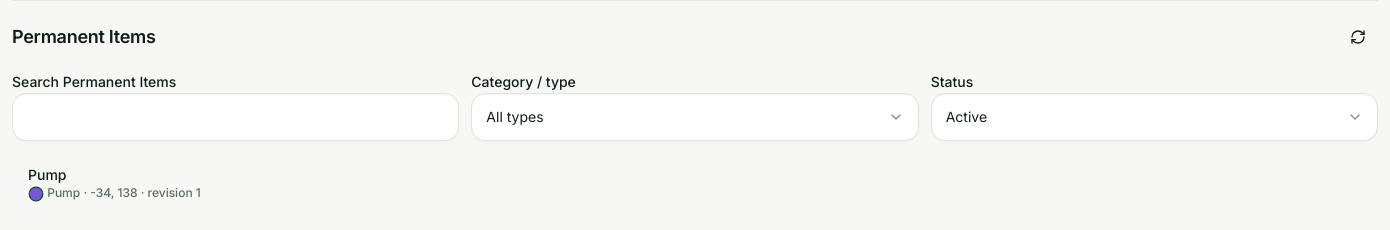
Scenario: filters separate items by search without querying pins
Check: the button "Pump Pump · -34, 138 · revision 1" is shown, box [12, 153, 1378, 214]
Type "gate" into the field labelled "Search Permanent Items" at (236, 117), box [12, 93, 459, 141]
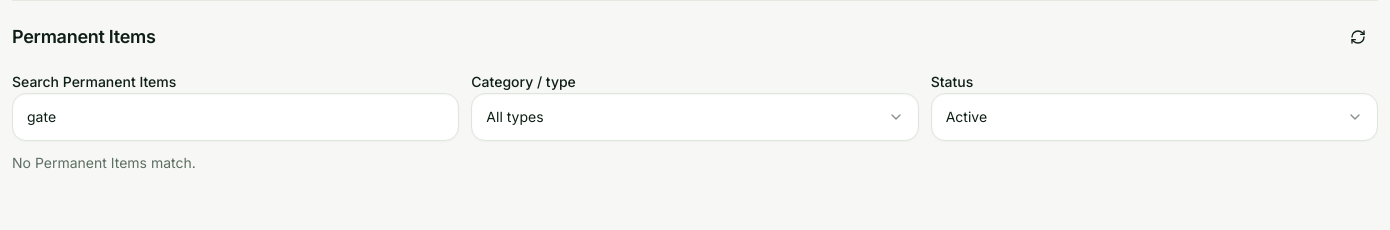
Check: the button "Pump" is gone
